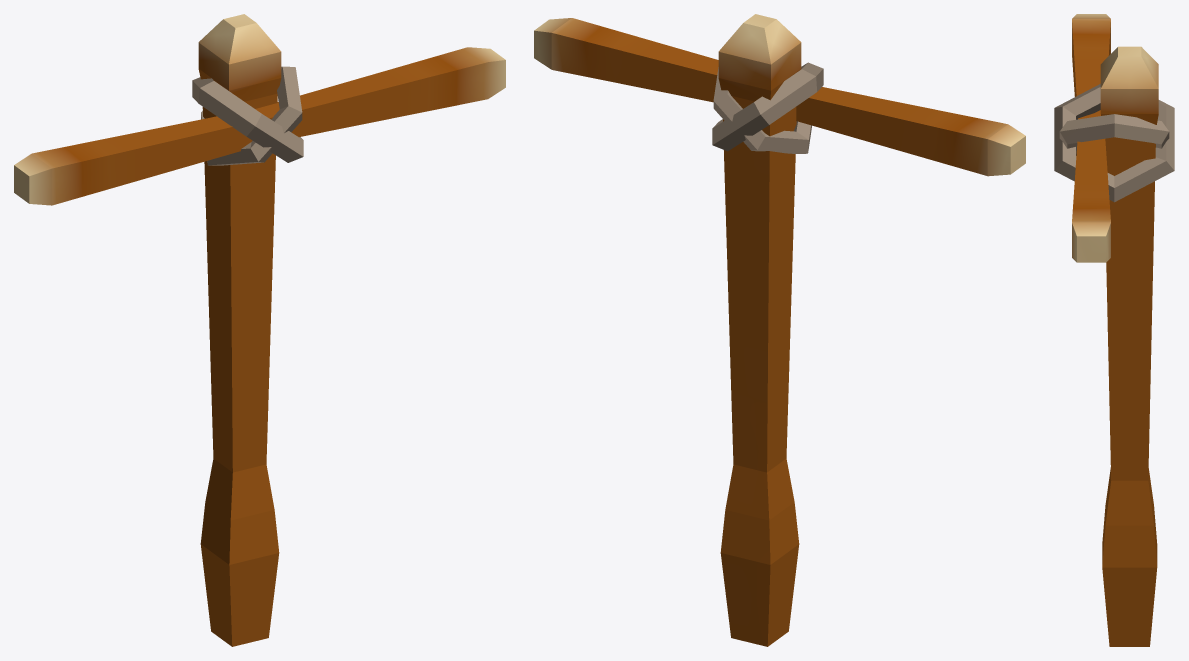
File: kit-signpost.glb
3 renders of one model, left to right at view 1: azimuth 30°, elevation 25°; view 2: azimuth 150°, elevation 25°; view 3: azimuth 270°, elevation 25°, orthographic. The views are drawn at different scales.
Visible parts, largest first — view 1: Cube.302; view 2: Cube.302; view 3: Cube.302.
Part boxes in pixels (box(x1,y1,x2,y2)): Cube.302: box(14, 14, 505, 646); Cube.302: box(534, 14, 1025, 646); Cube.302: box(1054, 14, 1174, 646).
Bounding box in the file's own units: 0.7565 × 0.9306 × 0.173.
1 material, 1 textured.
